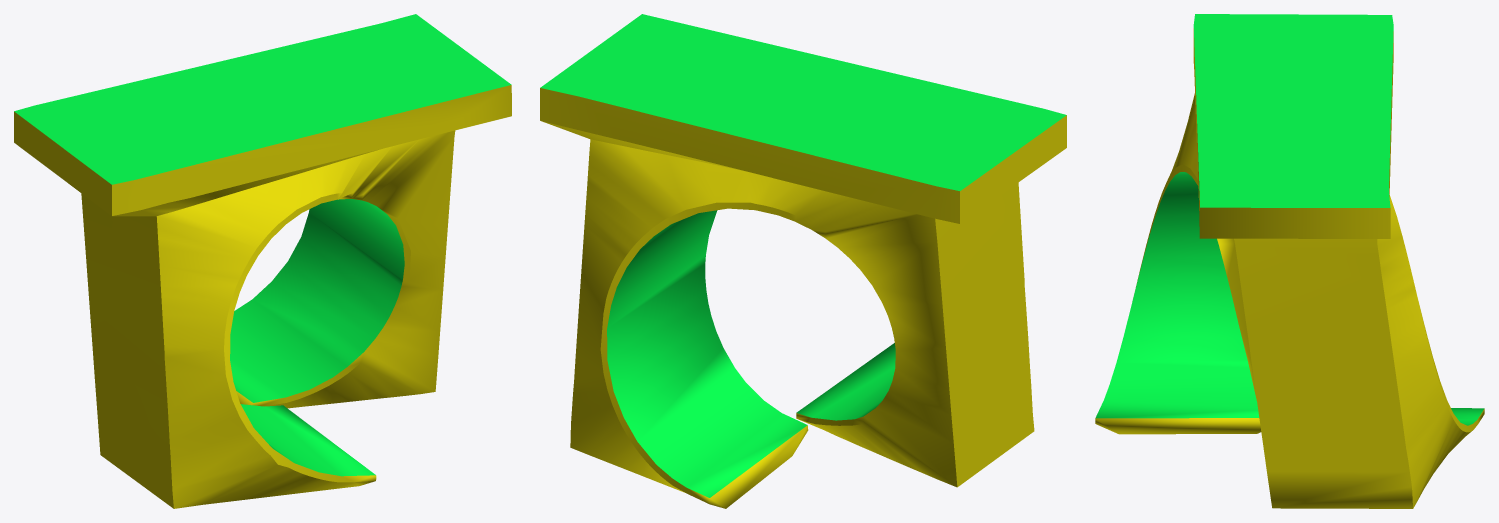
Rendered from BlockLoop_Wall.fbx.
The picture shows the model from 3 angles, left to right: view 1: azimuth 30°, elevation 25°; view 2: azimuth 150°, elevation 25°; view 3: azimuth 270°, elevation 25°; orthographic projection. The views are drawn at different scales.
Visible parts, largest first — view 1: loop_2_without_borders:pHelix1; view 2: loop_2_without_borders:pHelix1; view 3: loop_2_without_borders:pHelix1.
Part boxes in pixels (x1=…): loop_2_without_borders:pHelix1: x1=14, y1=14, x2=511, y2=508; loop_2_without_borders:pHelix1: x1=540, y1=14, x2=1066, y2=508; loop_2_without_borders:pHelix1: x1=1095, y1=14, x2=1484, y2=508.
Size of the model in its own units: 3.6 by 2.77 by 3.05.
